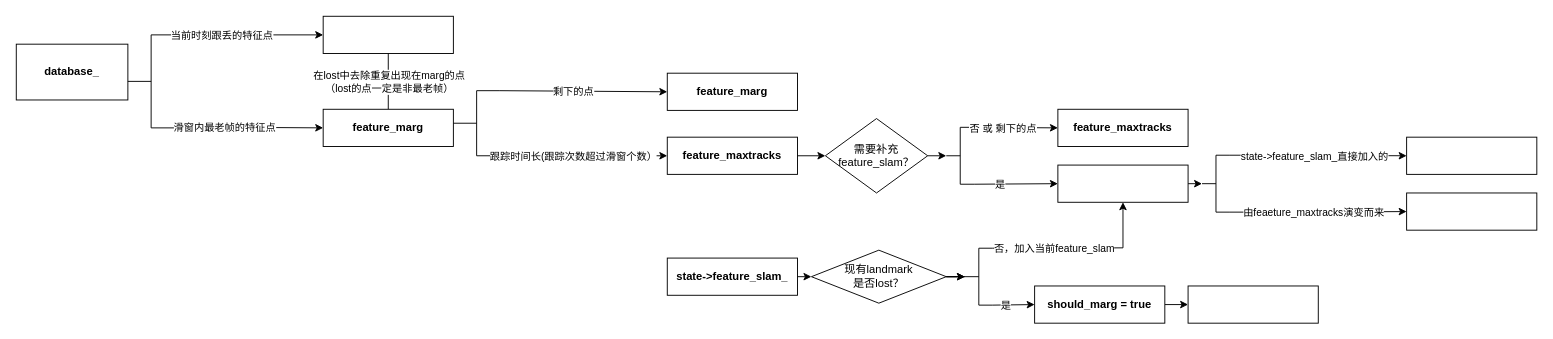
Image size: 1553x339. Some labels were removed from this diagram. Each missing label, with the box of its shape:
feature_lost: (322, 15, 453, 53)
feature_slam: (1057, 164, 1188, 202)
feature_slam_DELAYED: (1406, 192, 1537, 230)
feature_slam_UPDATE: (1406, 136, 1537, 174)
MarginalizeSLam(state): (1187, 285, 1318, 323)
